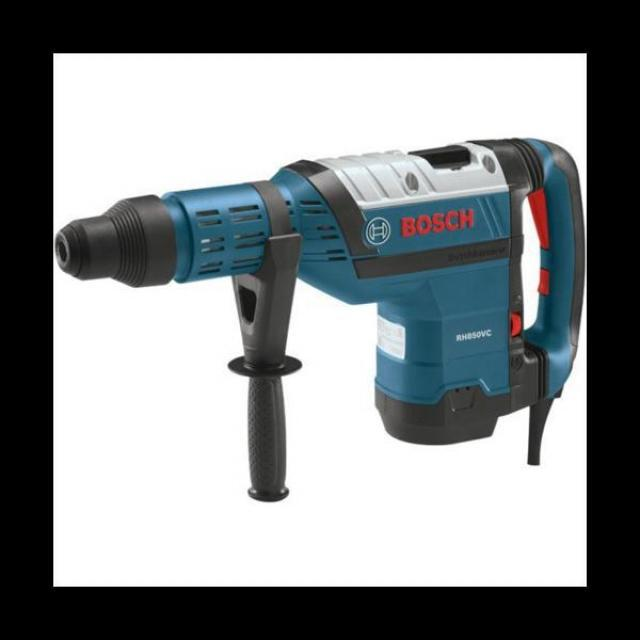drill: (54, 137, 585, 503)
